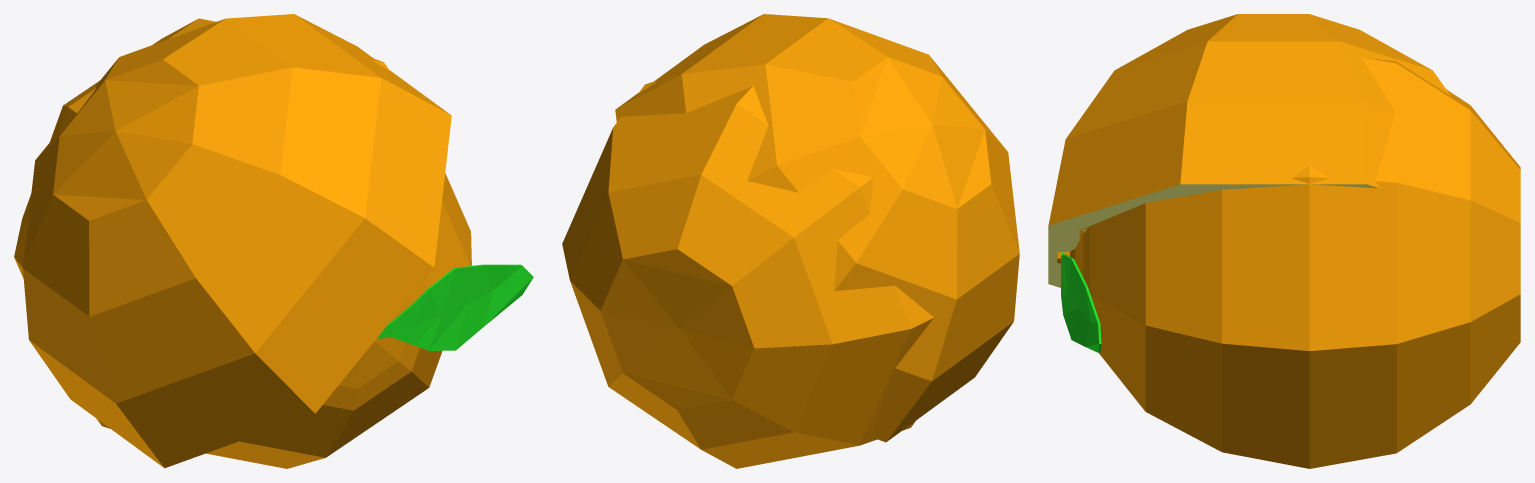
3 renders of one model, left to right at view 1: azimuth 30°, elevation 25°; view 2: azimuth 150°, elevation 25°; view 3: azimuth 270°, elevation 25°, orthographic. The views are drawn at different scales.
Parts seen in each view (by area): view 1: HOrange, Orange; view 2: Orange, HOrange; view 3: Orange, HOrange.
Part boxes in pixels (x1,y1,x2,y2): HOrange: [23, 14, 451, 468]; Orange: [14, 18, 533, 468]; Orange: [562, 81, 933, 468]; HOrange: [615, 14, 1019, 442]; Orange: [1056, 57, 1520, 468]; HOrange: [1048, 14, 1450, 287].
Bounding box in the file's own units: 0.0822 × 0.0823 × 0.084.
